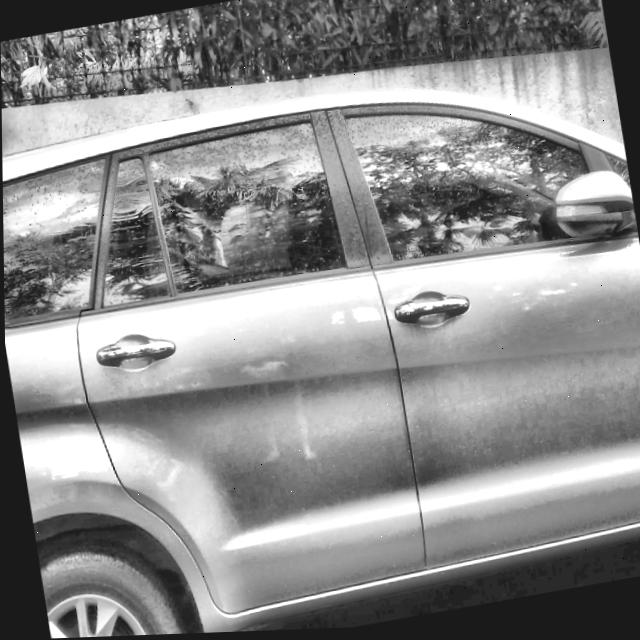light_vehicle: (1, 39, 640, 640)
